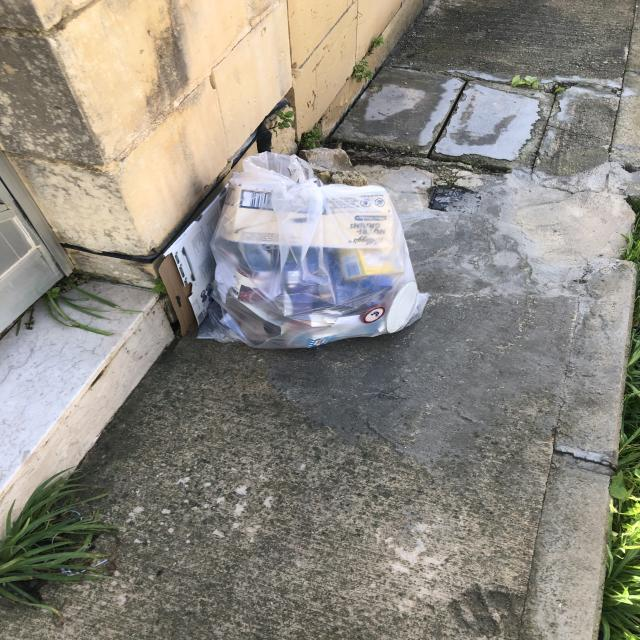Other: (159, 187, 227, 342)
Recycled Waste -Grey or Green Bag-: (197, 153, 430, 350)
